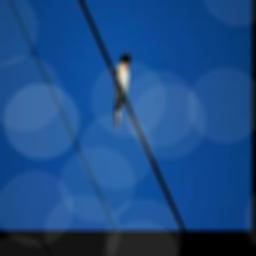Swallow: (112, 52, 131, 131)
